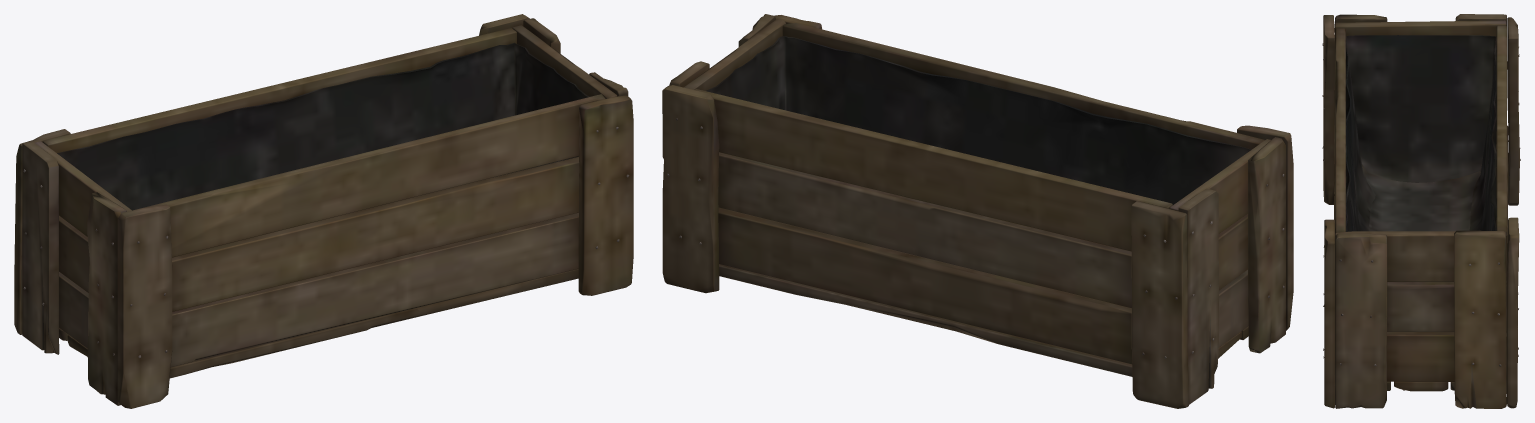
Rendered from jardiniere_bac_bois_lod0.glb.
The picture shows the model from 3 angles, left to right: view 1: azimuth 30°, elevation 25°; view 2: azimuth 150°, elevation 25°; view 3: azimuth 270°, elevation 25°; orthographic projection. The views are drawn at different scales.
Visible parts, largest first — view 1: planter_box_02; view 2: planter_box_02; view 3: planter_box_02.
Part boxes in pixels (x1=…): planter_box_02: x1=14, y1=14, x2=633, y2=408; planter_box_02: x1=662, y1=14, x2=1293, y2=408; planter_box_02: x1=1322, y1=14, x2=1520, y2=408.
Bounding box in the file's own units: 1.25 × 0.4534 × 0.4672.
Materials: 1 (1 with a texture image).
